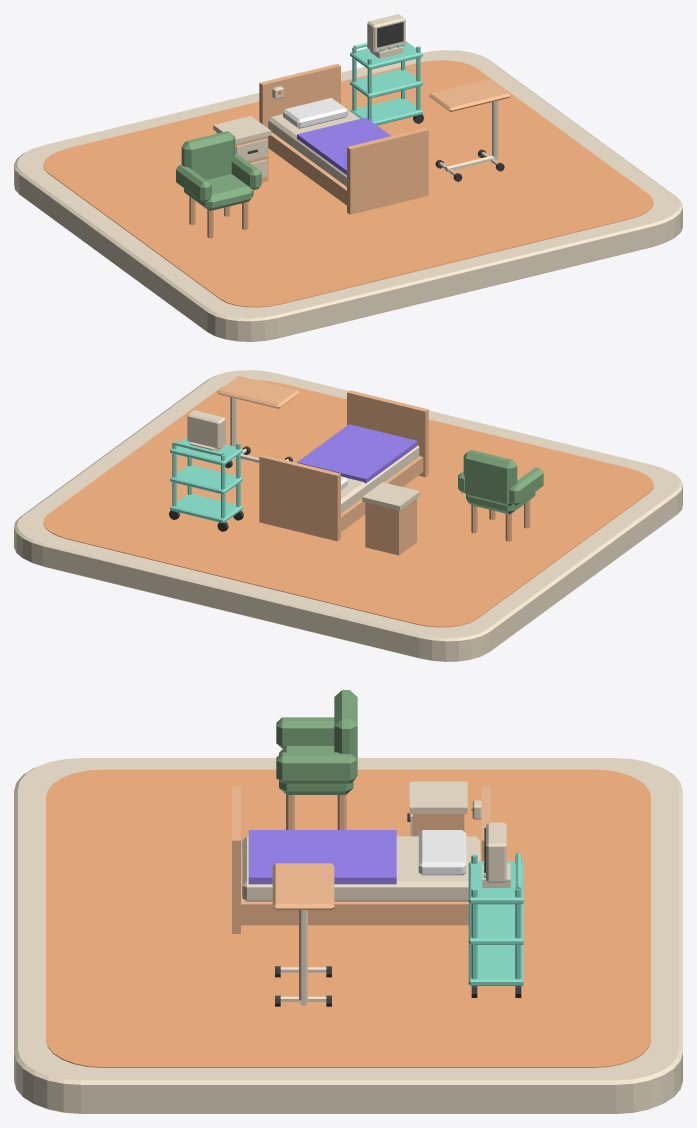
File: room.fbx
3 views of the same model, one above another, from view 1: azimuth 30°, elevation 25°; view 2: azimuth 150°, elevation 25°; view 3: azimuth 270°, elevation 25° (orthographic). The views are drawn at different scales.
Parts seen in each view (by area): view 1: COM-02 Floor Surface, COM-01 Rounded Base Direct, End board, End board.001, Blanket, Back, Mattress, Table top, Frame, Cushion, Pillow, Tray.001 (+7 smaller); view 2: COM-02 Floor Surface, COM-01 Rounded Base Direct, End board.001, Blanket, End board, Body, Back, Table top, Housing, Mattress, Tray, Tray.001 (+5 smaller); view 3: COM-02 Floor Surface, COM-01 Rounded Base Direct, Blanket, Mattress, Frame, Table top, Arm.001, Pillow, Tray, Tray.001, Top, Arm (+7 smaller).
Part boxes in pixels (x1,y1,x2,y2): COM-02 Floor Surface: (43, 60, 653, 307); COM-01 Rounded Base Direct: (14, 50, 682, 341); End board: (347, 128, 428, 214); End board.001: (259, 63, 340, 148); Blanket: (297, 117, 391, 174); Back: (181, 131, 235, 179); Mattress: (268, 102, 359, 186); Table top: (429, 79, 510, 111); Frame: (268, 132, 346, 205); Cushion: (184, 174, 253, 210); Pillow: (283, 98, 347, 128); Tray.001: (350, 69, 422, 98); COM-02 Floor Surface: (43, 380, 653, 627); COM-01 Rounded Base Direct: (14, 370, 682, 661); End board.001: (259, 454, 340, 541); Blanket: (297, 424, 417, 483); End board: (347, 390, 428, 477); Body: (365, 498, 416, 555); Back: (463, 449, 517, 505); Table top: (217, 376, 299, 408); Housing: (187, 410, 225, 448); Mattress: (341, 445, 419, 513); Tray: (170, 493, 242, 523); Tray.001: (170, 465, 242, 494); COM-02 Floor Surface: (46, 769, 650, 1067); COM-01 Rounded Base Direct: (14, 758, 682, 1113); Blanket: (248, 830, 396, 884); Mattress: (242, 836, 480, 901); Frame: (241, 853, 481, 925); Table top: (272, 863, 334, 910); Arm.001: (276, 752, 356, 783); Pillow: (418, 830, 466, 875); Tray: (468, 944, 523, 985); Tray.001: (468, 903, 523, 944); Top: (409, 781, 467, 813); Arm: (276, 717, 334, 748).
Bounding box in the file's own units: 600 × 156 × 520.
